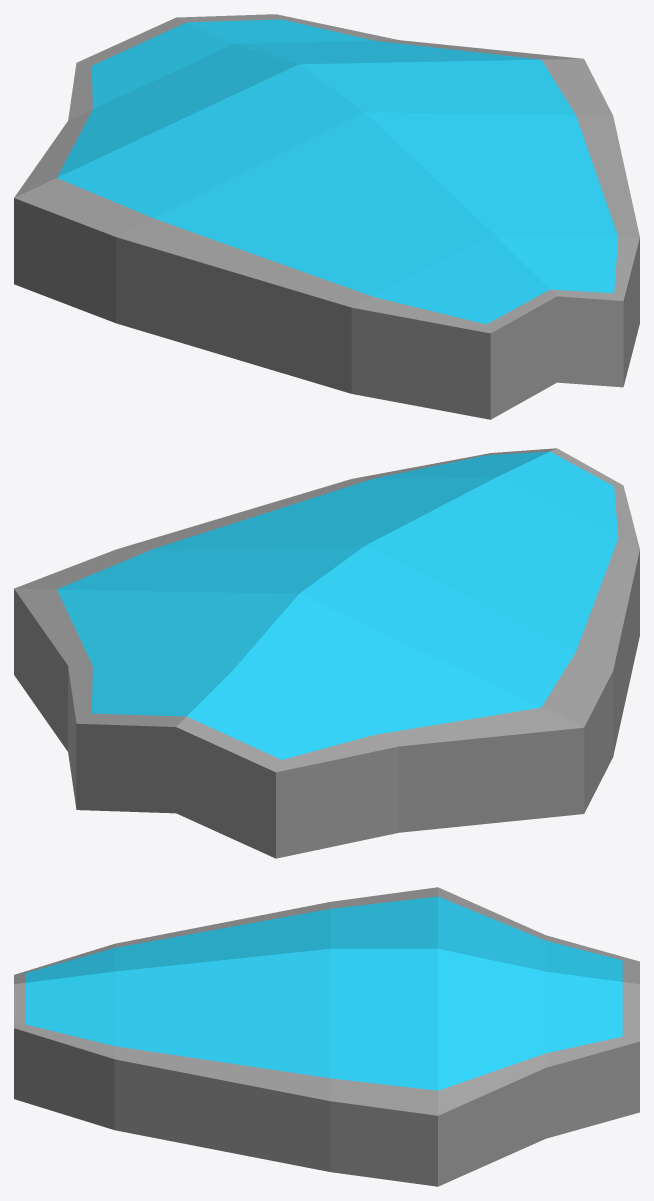
File: LowPolyShield.fbx
3 views of the same model, one above another, from view 1: azimuth 30°, elevation 25°; view 2: azimuth 150°, elevation 25°; view 3: azimuth 270°, elevation 25° (orthographic). The views are drawn at different scales.
Parts seen in each view (by area): view 1: Cube; view 2: Cube; view 3: Cube.
Boxes of the visible parts, bbox=[...] form: Cube: bbox=[14, 14, 639, 419]; Cube: bbox=[14, 448, 639, 858]; Cube: bbox=[14, 887, 639, 1186].
Size of the model in its own units: 86.42 by 21.79 by 100.
